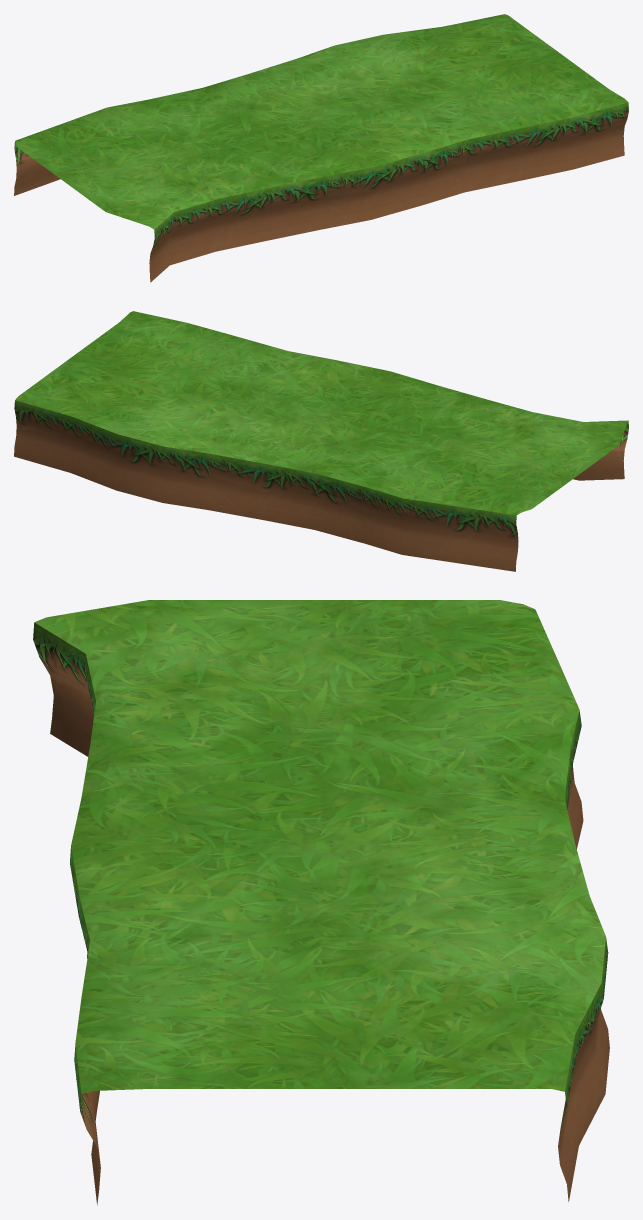
File: lvl1_plat004.FBX
3 renders of one model, top to bottom at view 1: azimuth 30°, elevation 25°; view 2: azimuth 150°, elevation 25°; view 3: azimuth 270°, elevation 25°, orthographic. The views are drawn at different scales.
Parts seen in each view (by area): view 1: lvl1_plat004_grass, lvl1_plat004; view 2: lvl1_plat004_grass, lvl1_plat004; view 3: lvl1_plat004_grass, lvl1_plat004.
Part boxes in pixels (x1=…): lvl1_plat004_grass: x1=15, y1=14, x2=628, y2=229; lvl1_plat004: x1=14, y1=102, x2=628, y2=282; lvl1_plat004_grass: x1=15, y1=311, x2=628, y2=515; lvl1_plat004: x1=14, y1=400, x2=628, y2=571; lvl1_plat004_grass: x1=34, y1=600, x2=605, y2=1094; lvl1_plat004: x1=33, y1=622, x2=609, y2=1205.
Size of the model in its own units: 1636 by 178 by 812.
